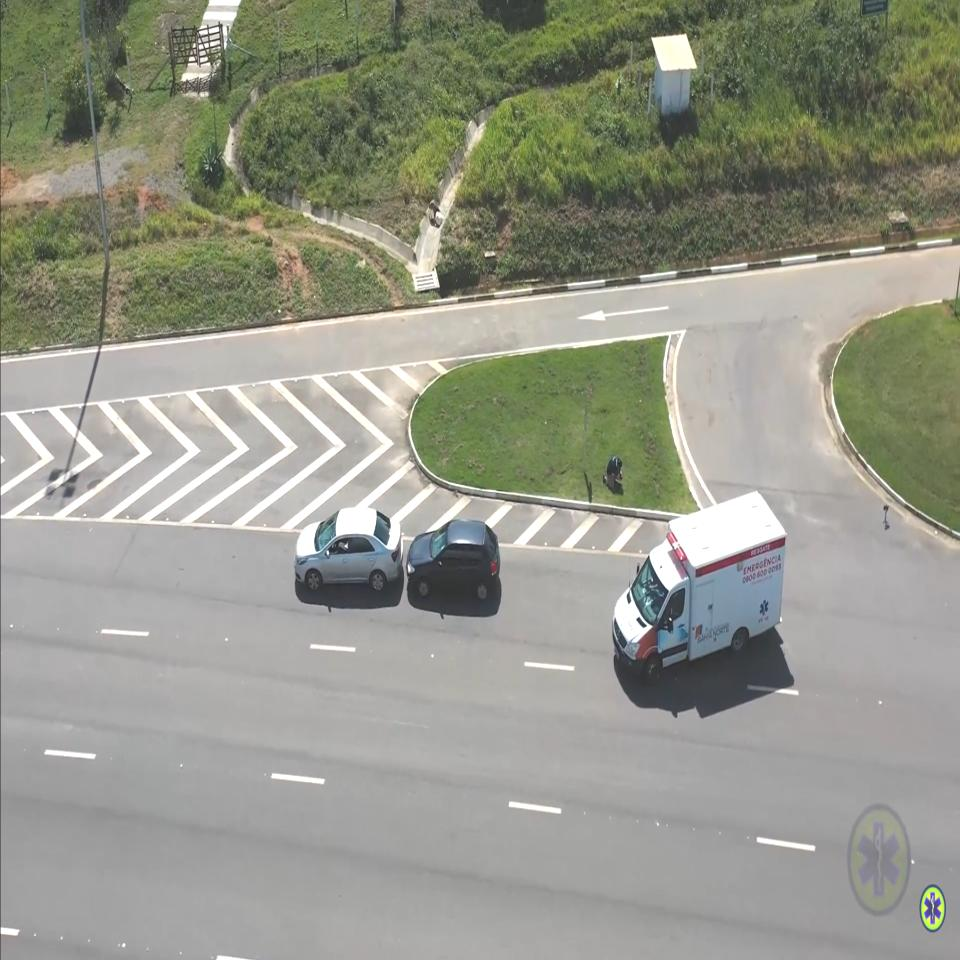ambulancia: (610, 487, 788, 689)
